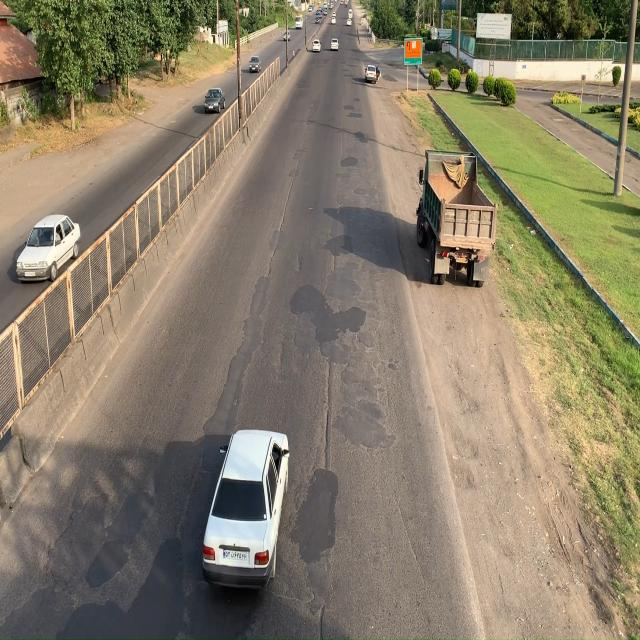Truck: (414, 148, 499, 290)
cars: (200, 426, 291, 594), (16, 212, 80, 284)
